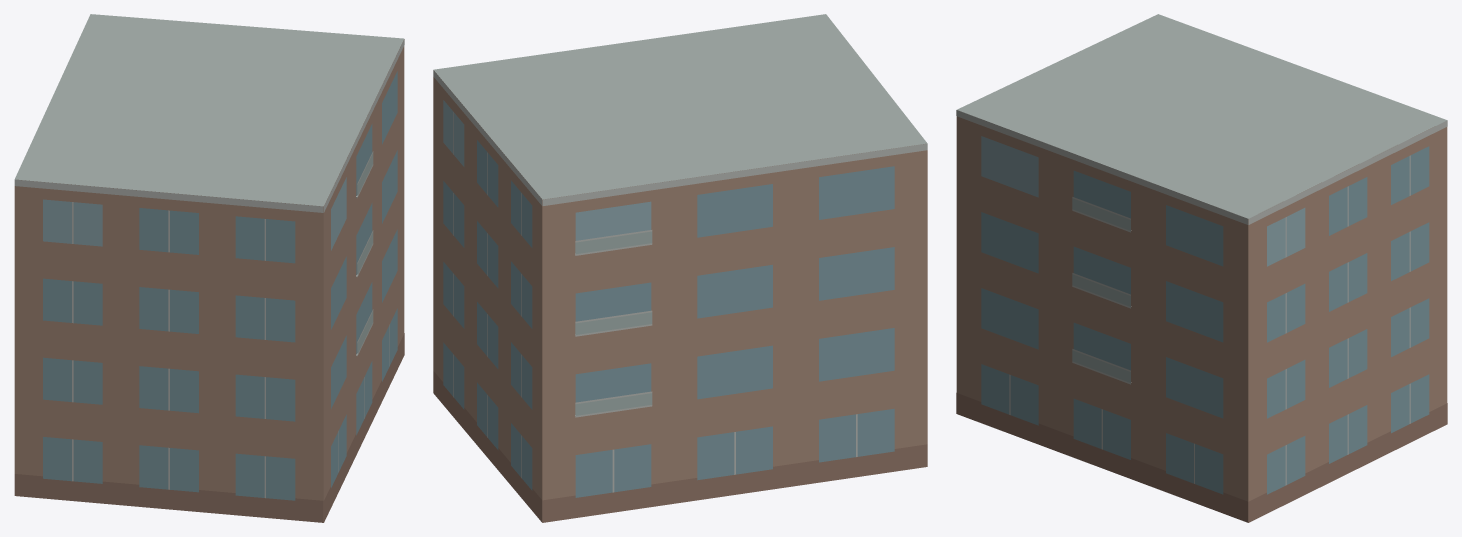
The model's file is survey-upis-32524295.glb.
The picture shows the model from 3 angles, left to right: view 1: azimuth 30°, elevation 25°; view 2: azimuth 150°, elevation 25°; view 3: azimuth 270°, elevation 25°; orthographic projection. The views are drawn at different scales.
Parts seen in each view (by area): view 1: survey-upis-32524295.tmp; view 2: survey-upis-32524295.tmp; view 3: survey-upis-32524295.tmp.
Boxes of the visible parts, x1=… form: survey-upis-32524295.tmp: x1=14, y1=14, x2=404, y2=522; survey-upis-32524295.tmp: x1=433, y1=14, x2=927, y2=522; survey-upis-32524295.tmp: x1=956, y1=14, x2=1447, y2=522.
Bounding box in the file's own units: 16.91 × 11.7 × 17.13.
